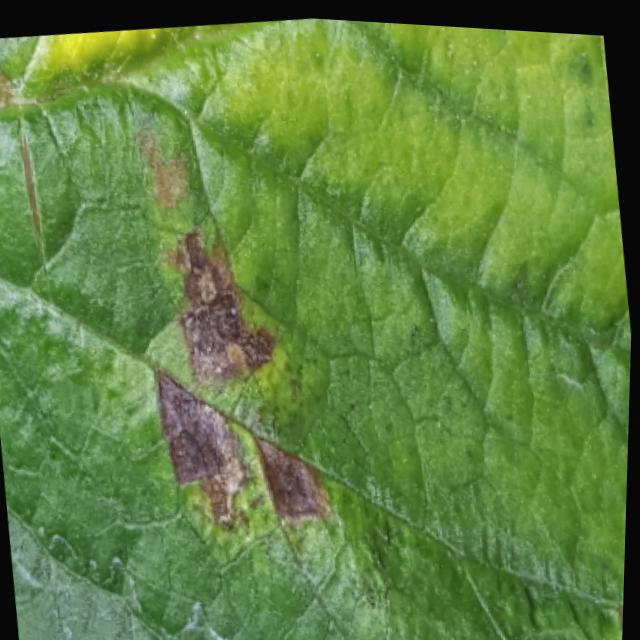Angular Leafspot: (0, 21, 628, 640)
